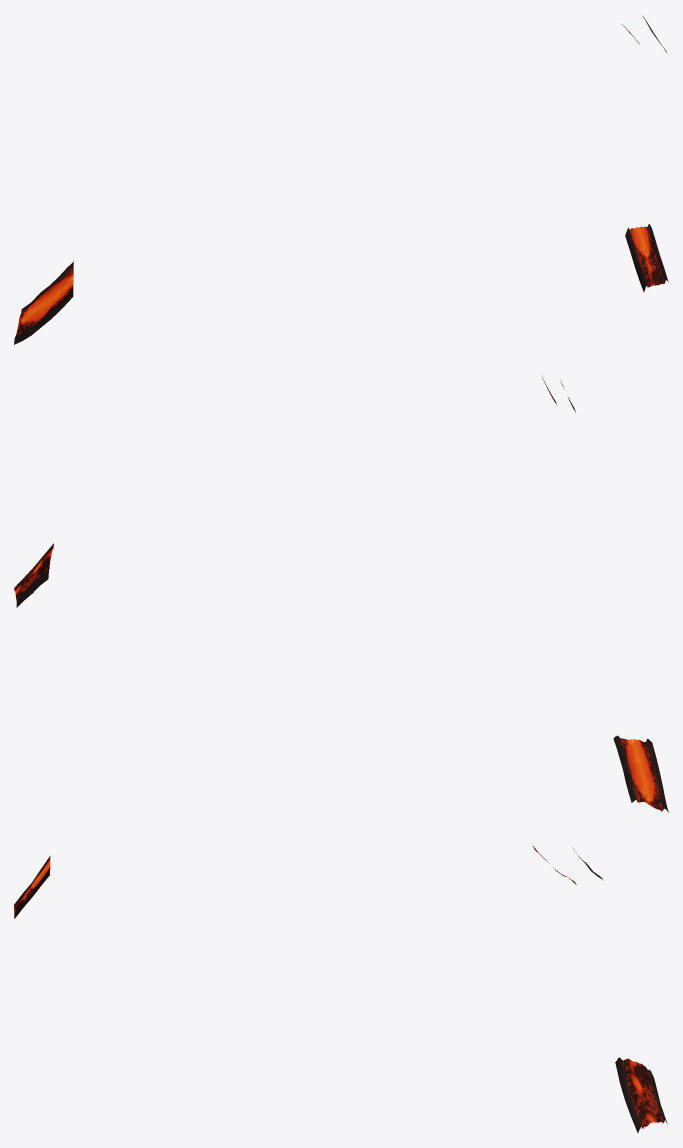
The model's file is lava_seg_8.glb.
The picture shows the model from 3 angles, top to bottom: view 1: azimuth 30°, elevation 25°; view 2: azimuth 150°, elevation 25°; view 3: azimuth 270°, elevation 25°; orthographic projection. The views are drawn at different scales.
Visible parts, largest first — view 1: seg; view 2: seg; view 3: seg.
Boxes of the visible parts, x1,y1,x2,y2 form: seg: (14,16,668,344); seg: (14,377,668,812); seg: (14,846,667,1132).
Bounding box in the file's own units: 105 × 30.39 × 82.13.
